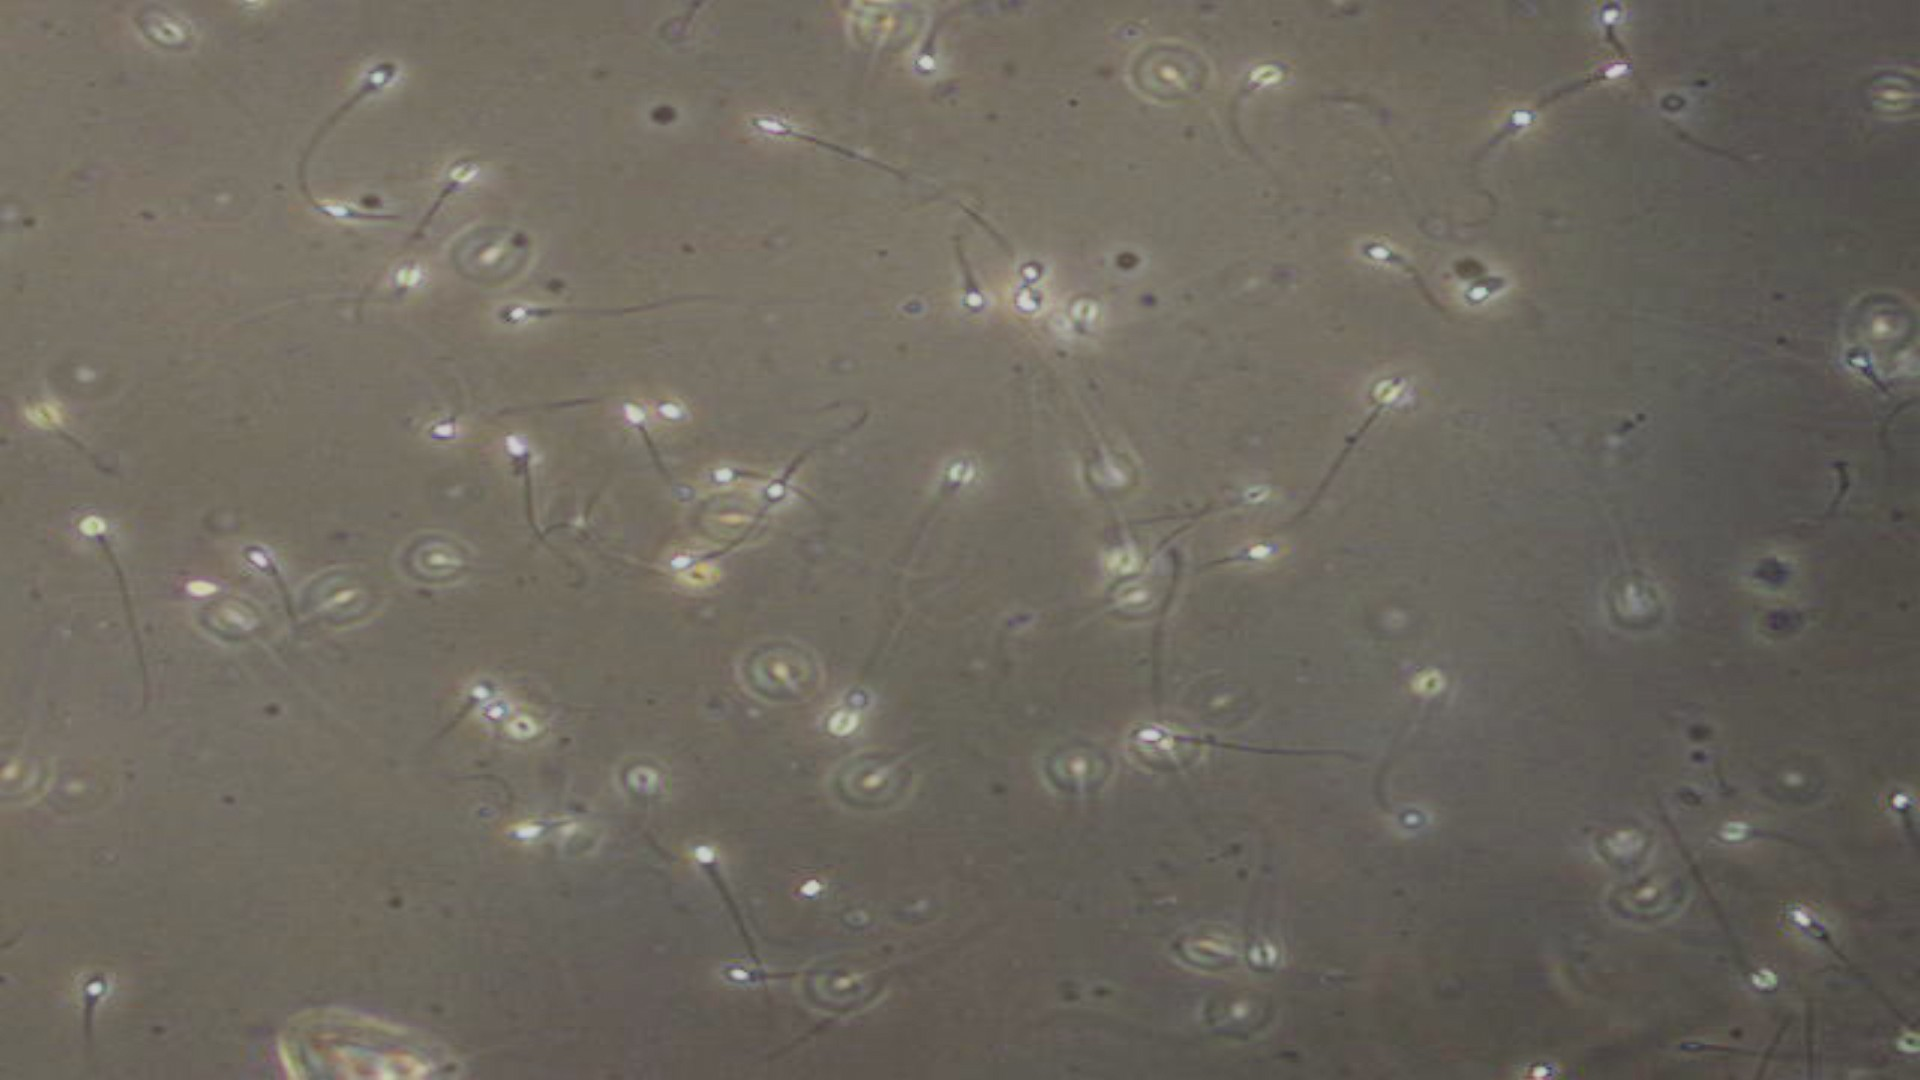sperm: (45, 488, 186, 670), (1671, 824, 1784, 1000), (1788, 899, 1920, 1031), (717, 964, 1000, 1023), (495, 286, 704, 363), (887, 452, 1000, 595), (233, 534, 336, 673), (653, 513, 814, 600), (1127, 724, 1349, 786), (1592, 4, 1695, 124), (680, 828, 789, 942), (770, 407, 884, 508), (396, 670, 498, 774), (55, 953, 136, 1073), (1462, 111, 1547, 216), (745, 107, 870, 174), (1361, 241, 1455, 316), (421, 164, 485, 268), (495, 429, 564, 524), (924, 231, 996, 316), (1832, 348, 1896, 419), (1539, 61, 1639, 103), (600, 388, 663, 454), (342, 47, 400, 104), (709, 460, 796, 496)
